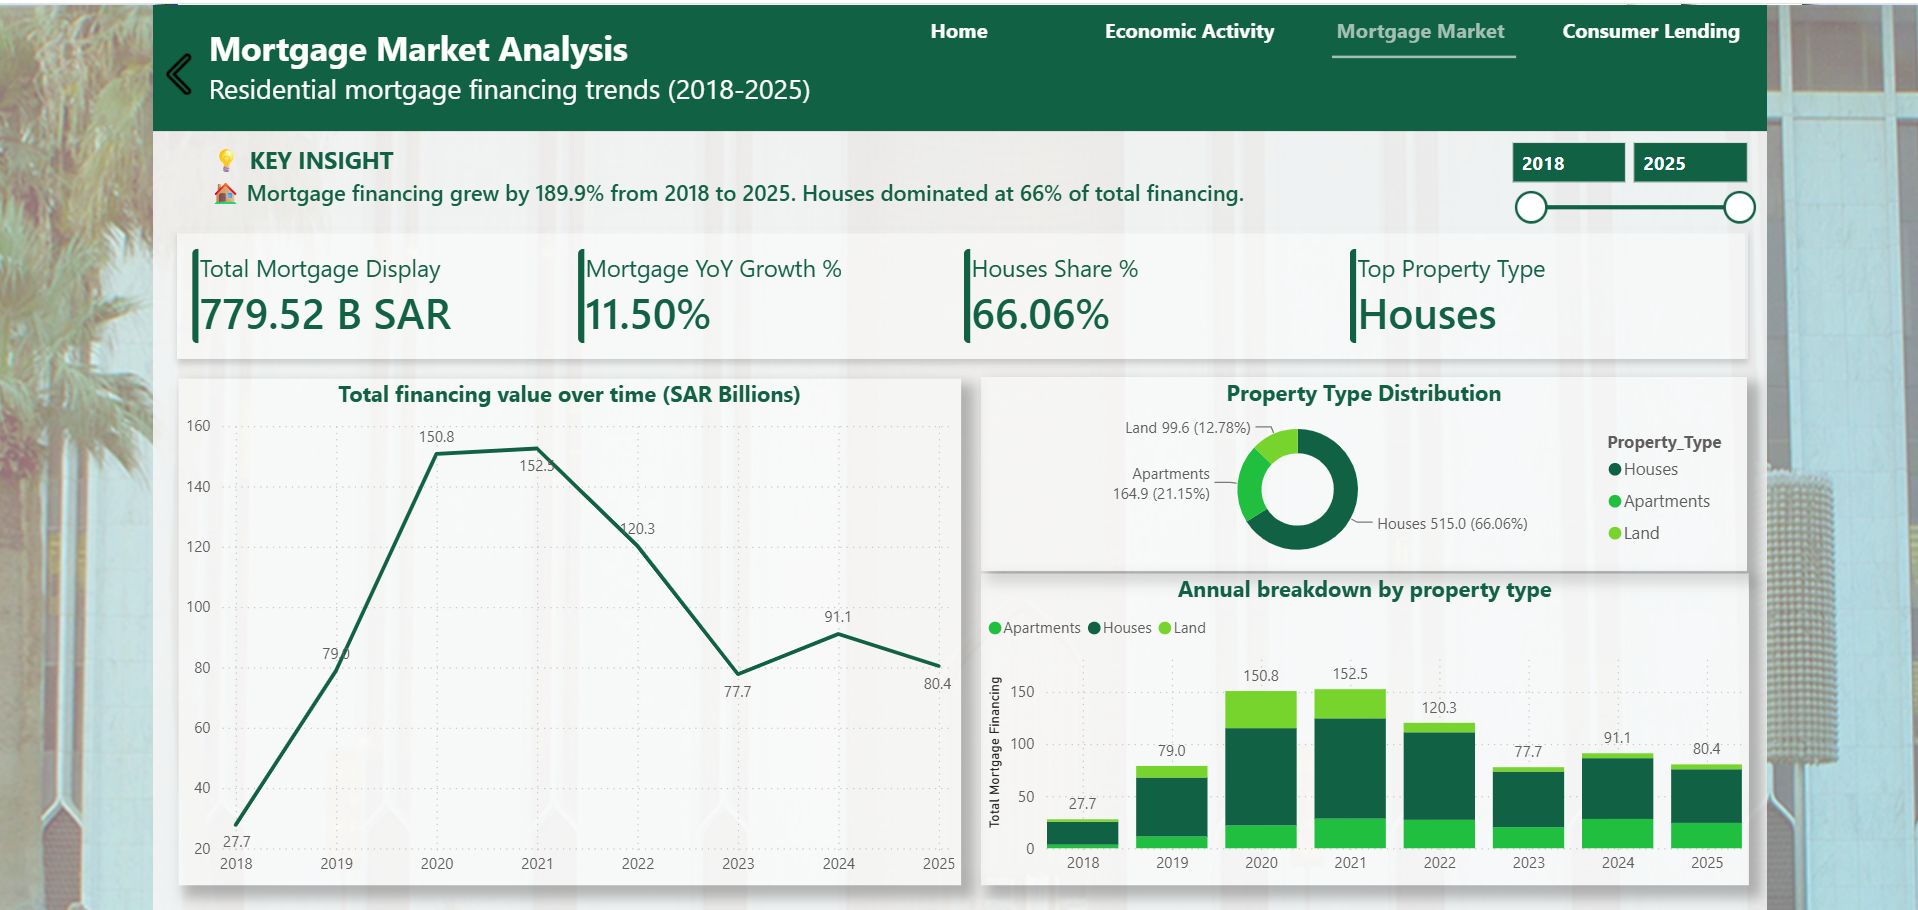

Layout of this report page (visuals, bound fields, positions):
{"tool":"powerbi","page":{"name":"Mortgage Market","canvas":[1280,720],"ordinal":2},"visuals":[{"type":"shape","box":[0,0,1280,100],"z":0},{"type":"textbox","box":[39.4,11,630,88.2],"z":1000},{"type":"cardVisual","fields":{"Data":["_Measures.Total Mortgage Display","_Measures.Mortgage YoY Growth %","_Measures.Houses Share %","_Measures.Top Property Type"]},"box":[18.9,177,1246.2,103.1],"z":2000},{"type":"donutChart","title":"Property Type Distribution","fields":{"Category":["Mortgages.Property_Type"],"Y":["_Measures.Total Mortgage Financing (Billions)"]},"box":[657.1,294.8,607.5,154.3],"z":3000},{"type":"lineChart","title":"Total financing value over time (SAR Billions)","fields":{"Category":["DateTable.year"],"Y":["_Measures.Total Mortgage Financing (Billions)"]},"box":[20.6,295.7,620.5,402.2],"z":4000},{"type":"slicer","fields":{"Values":["DateTable.year"]},"box":[1064.9,99.2,214.9,78.5],"z":5000},{"type":"actionButton","box":[0,34.7,52,41],"z":6000},{"type":"cardVisual","fields":{"Data":["_Measures.Mortgage Insight"]},"box":[17.2,92.8,1048.5,84.2],"z":7000},{"type":"columnChart","title":"Annual breakdown by property type","fields":{"Category":["DateTable.year"],"Series":["Mortgages.Property_Type"],"Y":["_Measures.Total Mortgage Financing (Billions)"]},"box":[656.6,450.4,608.5,247.5],"z":8000},{"type":"pageNavigator","box":[551,0,728.7,39.9],"z":9000},{"type":"shape","box":[935.4,27.6,146,27.6],"z":10000}]}

Visuals, with their boxes on the page's 1280x720 design canvas (x1, y1, x2, y2). These are canvas units, not pixel positions in the 1918x910 screenshot, which may show the page scaled, cropped or inside an application window:
shape: x1=0, y1=0, x2=1280, y2=100
textbox: x1=39, y1=11, x2=669, y2=99
cardVisual - _Measures.Total Mortgage Display x _Measures.Mortgage YoY Growth %: x1=19, y1=177, x2=1265, y2=280
"Property Type Distribution" donutChart: x1=657, y1=295, x2=1265, y2=449
"Total financing value over time (SAR Billions)" lineChart: x1=21, y1=296, x2=641, y2=698
slicer - DateTable.year: x1=1065, y1=99, x2=1280, y2=178
actionButton: x1=0, y1=35, x2=52, y2=76
cardVisual - _Measures.Mortgage Insight: x1=17, y1=93, x2=1066, y2=177
"Annual breakdown by property type" columnChart: x1=657, y1=450, x2=1265, y2=698
pageNavigator: x1=551, y1=0, x2=1280, y2=40
shape: x1=935, y1=28, x2=1081, y2=55
